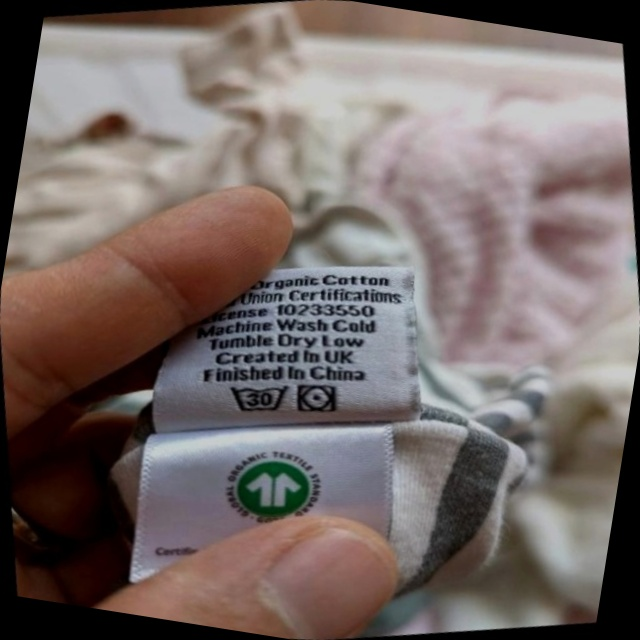30C: (219, 369, 298, 428)
tumble_dry_low: (288, 373, 346, 425)
